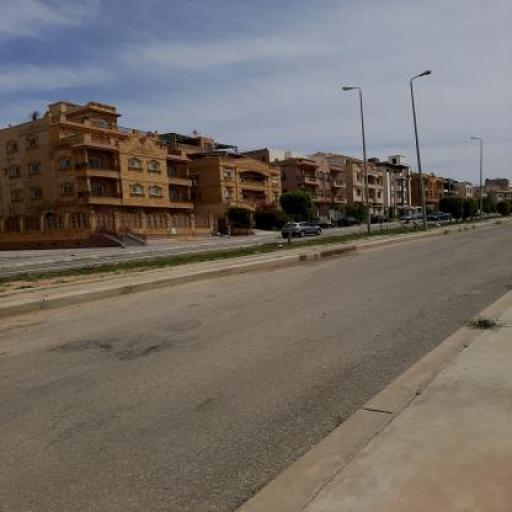street light: (342, 86, 374, 233), (410, 70, 431, 232), (470, 136, 484, 218)
